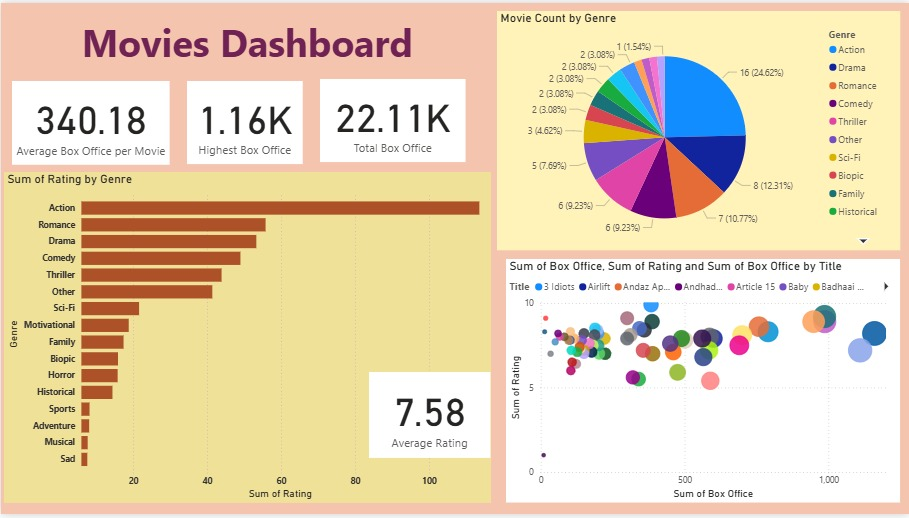

The page's visual inventory and layout, read from the dashboard file:
{"tool":"powerbi","page":{"name":"Page 1","canvas":[1280,720],"ordinal":0},"visuals":[{"type":"barChart","fields":{"Category":["Movies.Genre"],"Y":["Sum(Movies.Rating)"]},"box":[3.9,238.2,685.5,465.8],"z":500},{"type":"card","fields":{"Values":["Movies.Average Box Office per Movie"]},"box":[15.8,110.5,222.4,118.4],"z":1000},{"type":"card","fields":{"Values":["Movies.Average Rating"]},"box":[518.4,519.7,171.1,121.1],"z":1500},{"type":"card","fields":{"Values":["Movies.Total Box Office"]},"box":[448.7,106.6,205.3,117.1],"z":2000},{"type":"card","fields":{"Values":["Movies.Highest Box Office"]},"box":[261.8,110.5,163.2,117.1],"z":3000},{"type":"pieChart","fields":{"Category":["Movies.Genre"],"Y":["Movies.Movie Count"]},"box":[698.7,11.8,568.4,336.8],"z":5000},{"type":"textbox","box":[100,13.2,493.4,82.9],"z":6000},{"type":"scatterChart","fields":{"X":["Sum(Movies.Box Office)"],"Y":["Sum(Movies.Rating)"],"Size":["Sum(Movies.Box Office)"],"Series":["Movies.Title"]},"box":[711.8,360.5,555.3,343.4],"z":7000}]}

Visuals, with their boxes in screenshot pixels (x1, y1, x2, y2), scaled from the page's 1280x720 canvas onto the 909x518 screenshot:
barChart - Movies.Genre x Sum(Movies.Rating): detection(3, 171, 490, 506)
card - Movies.Average Box Office per Movie: detection(11, 79, 169, 165)
card - Movies.Average Rating: detection(368, 374, 490, 461)
card - Movies.Total Box Office: detection(319, 77, 464, 161)
card - Movies.Highest Box Office: detection(186, 79, 302, 164)
pieChart - Movies.Genre x Movies.Movie Count: detection(496, 8, 900, 251)
textbox: detection(71, 9, 421, 69)
scatterChart - Sum(Movies.Box Office) x Sum(Movies.Rating): detection(505, 259, 900, 506)
